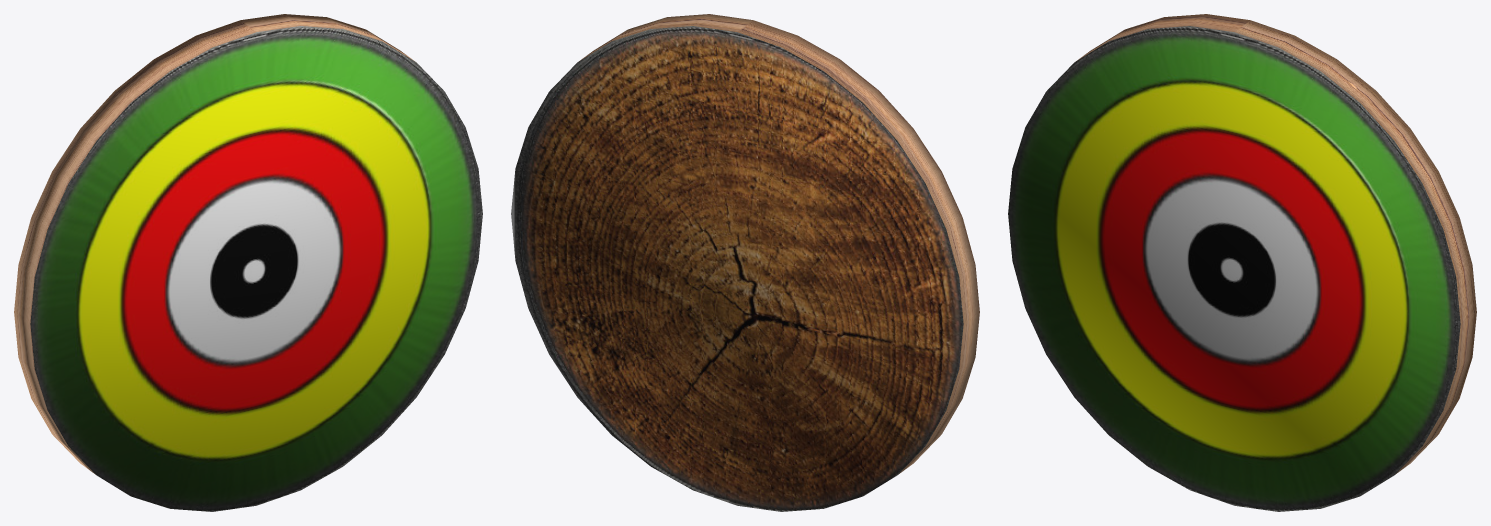
Rendered from mato02_x100.glb.
3 views of the same model, side by side, from view 1: azimuth 30°, elevation 25°; view 2: azimuth 150°, elevation 25°; view 3: azimuth 330°, elevation 25° (orthographic).
Visible parts, largest first — view 1: mato; view 2: mato; view 3: mato.
Boxes of the visible parts, x1,y1,x2,y2 form: mato: [14, 14, 482, 511]; mato: [511, 14, 979, 511]; mato: [1008, 14, 1476, 511].
Size of the model in its own units: 80 by 80 by 5.
1 material, 1 textured.
